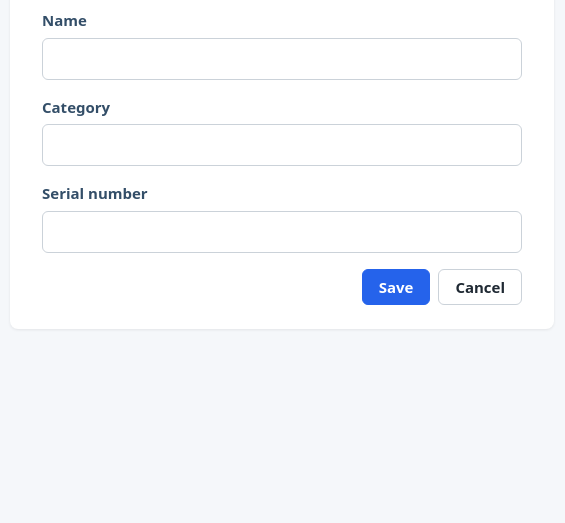
it: EquipmentForm › shows required-field errors and does not submit when fields are empty
Click the button "Save".
click(396, 286)  # box [362,268,430,304]
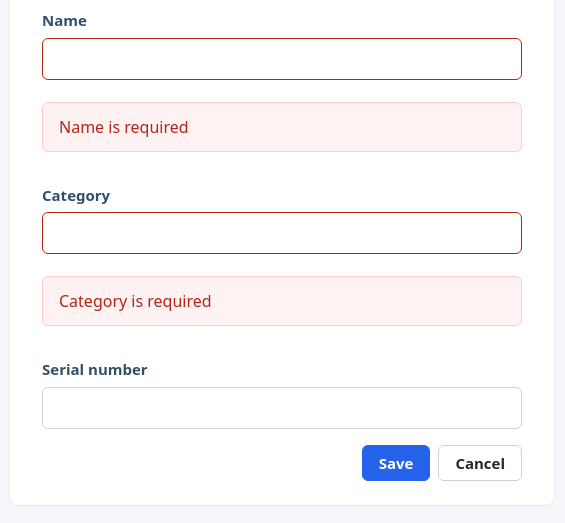
Check: the text "Name is required" is shown, box [42,102,522,152]
Check: the text "Category is required" is shown, box [42,276,522,326]
